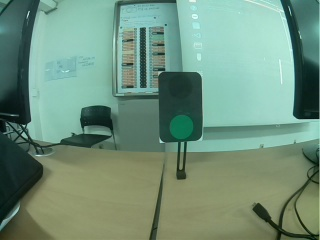green_light: (154, 69, 198, 142)
